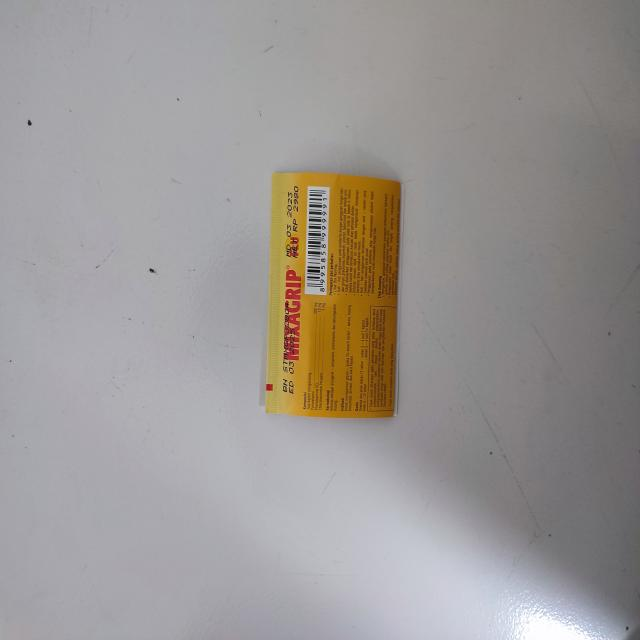B3: (260, 168, 403, 419)
